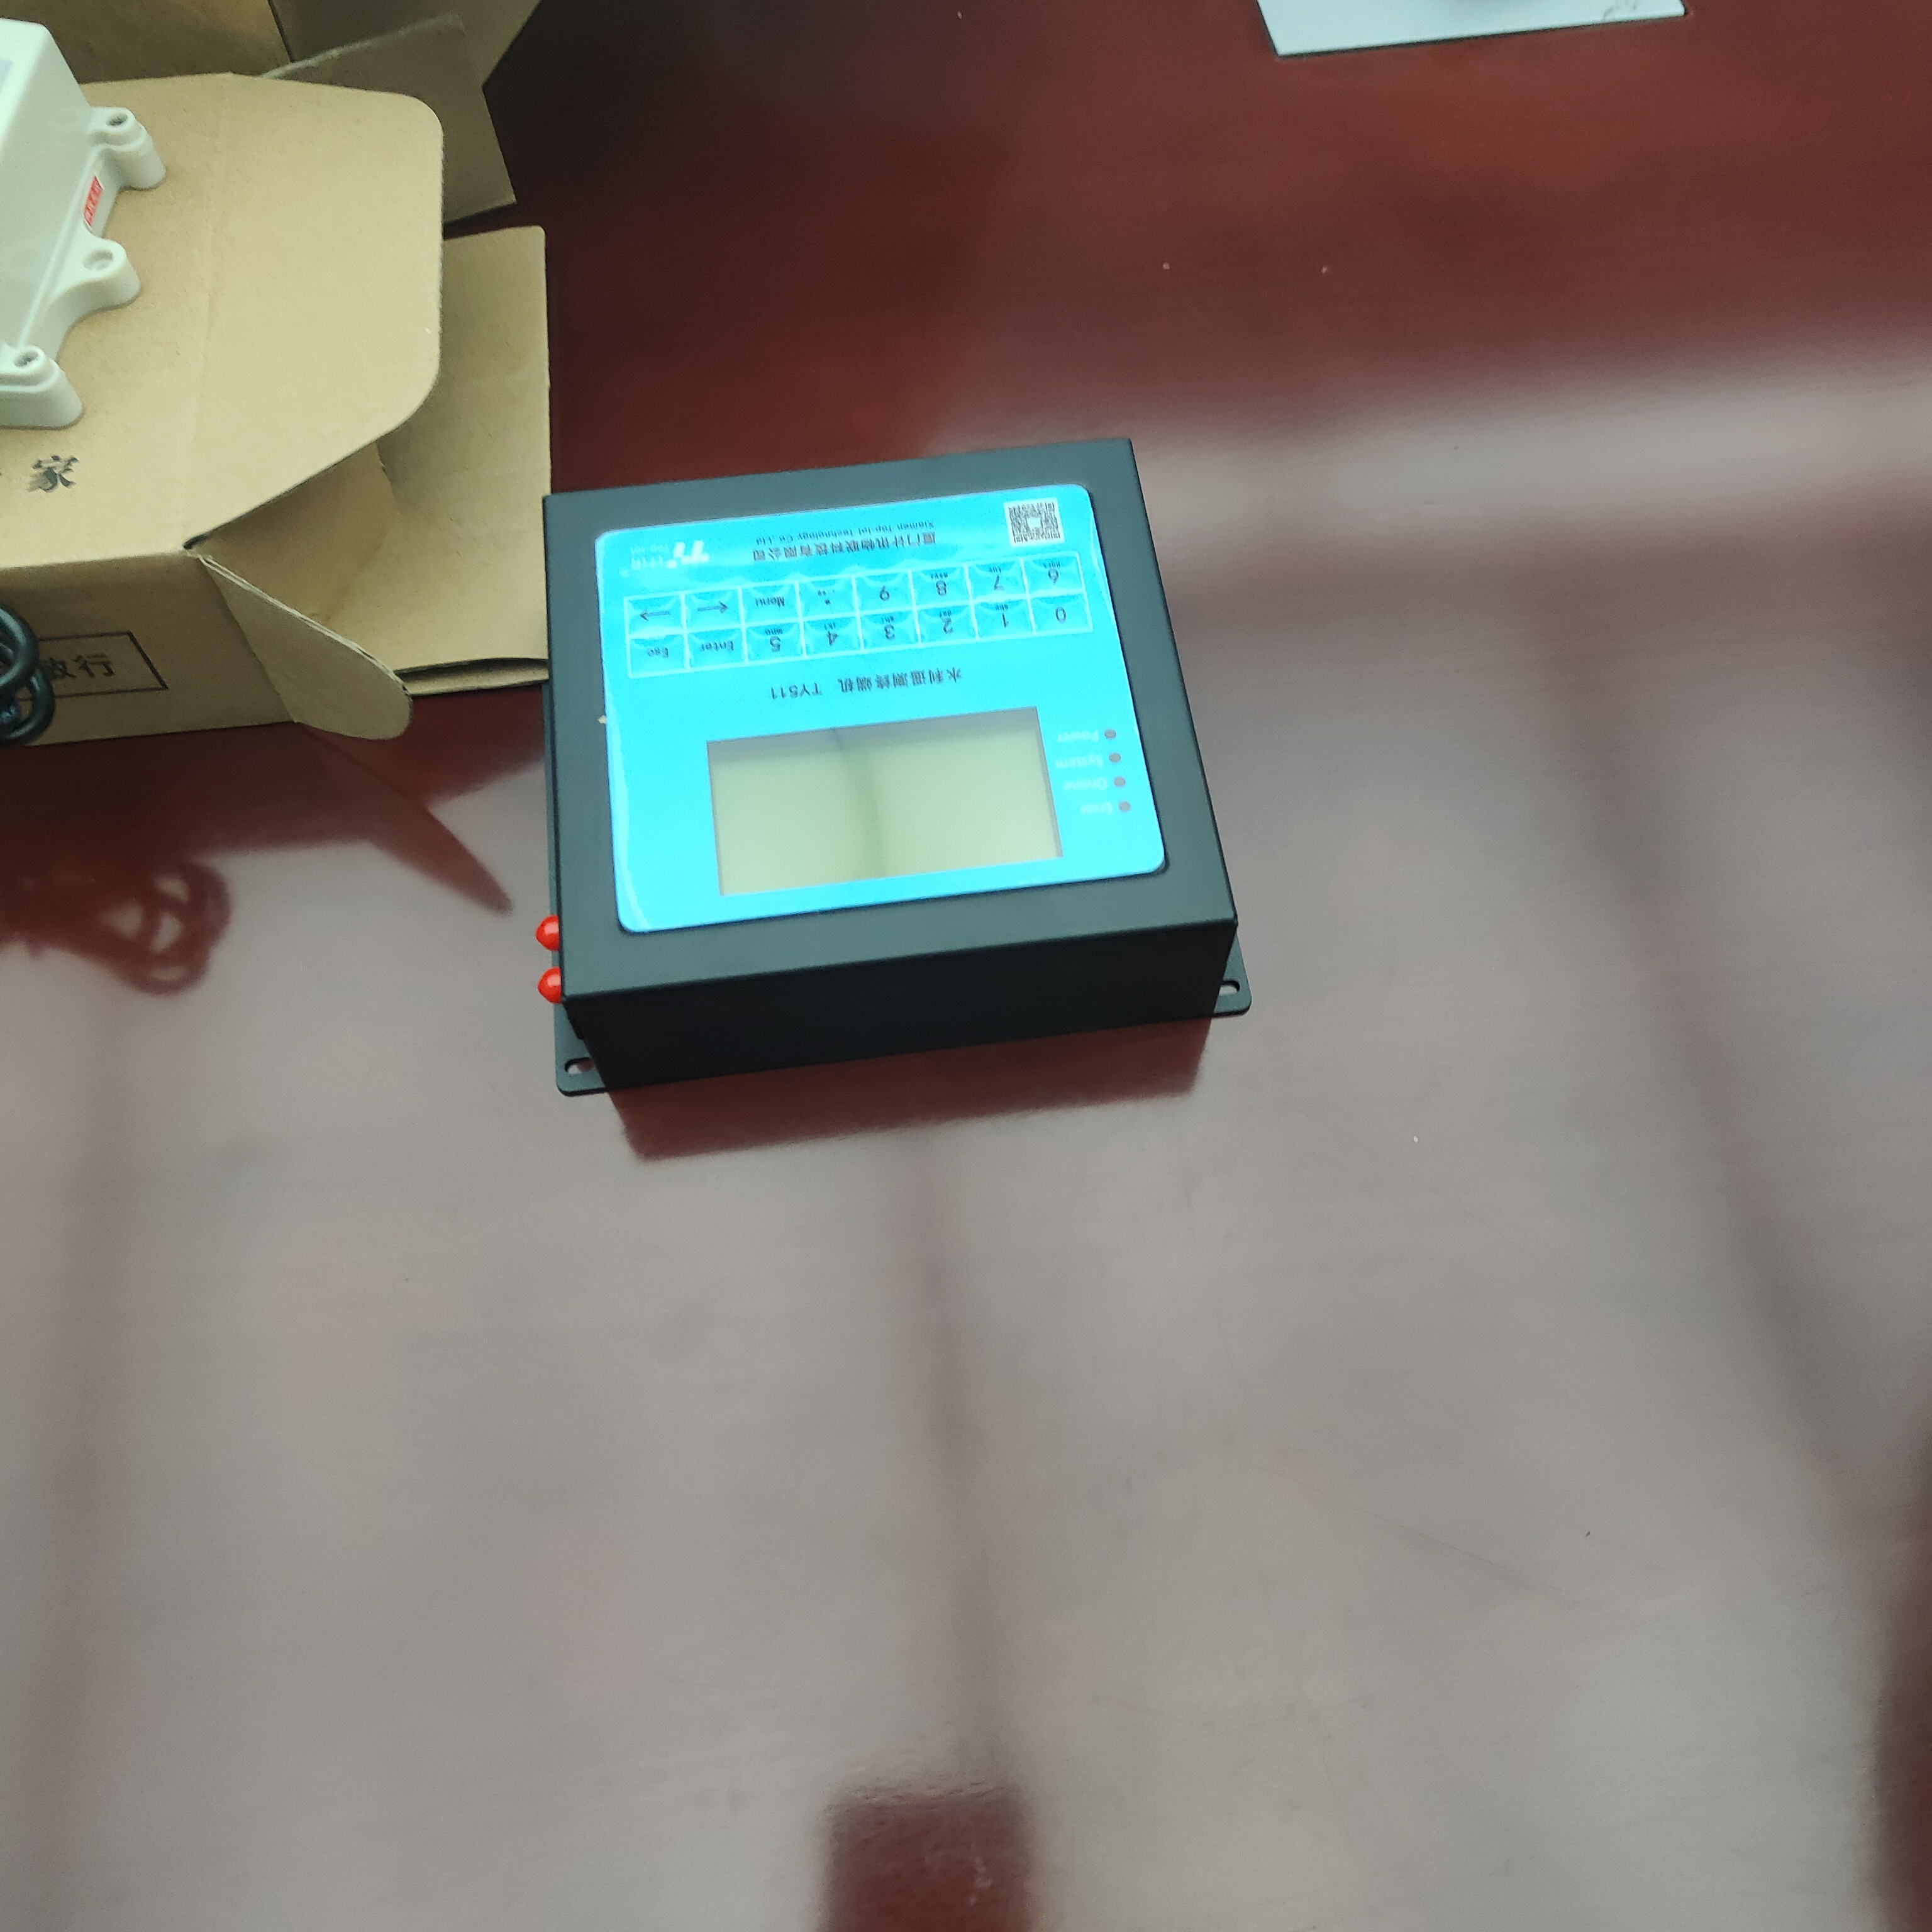slyczd: (533, 425, 1263, 1123)
